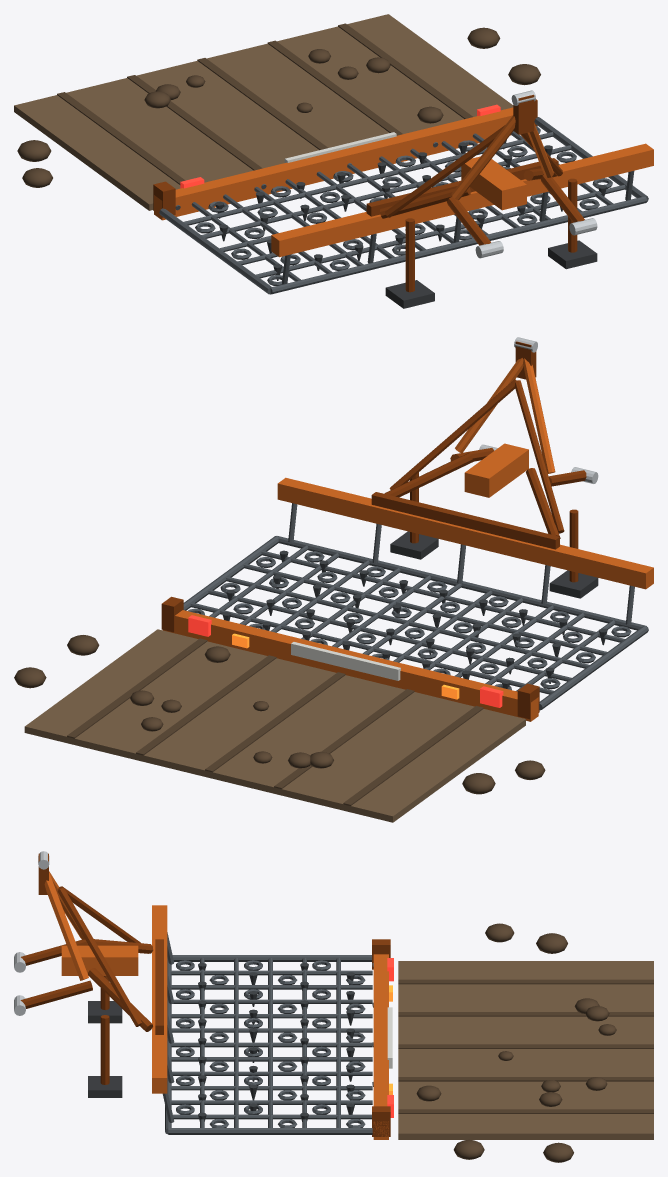
The model's file is chain_harrow.glb.
The picture shows the model from 3 angles, top to bottom: view 1: azimuth 30°, elevation 25°; view 2: azimuth 150°, elevation 25°; view 3: azimuth 270°, elevation 25°; orthographic projection. The views are drawn at different scales.
Parts seen in each view (by area): view 1: ChainProps, ChainBody; view 2: ChainBody, ChainProps; view 3: ChainProps, ChainBody.
Part boxes in pixels (x1,y1,x2,y2): ChainProps: (14,14,540,210); ChainBody: (153,90,653,308); ChainBody: (161,337,653,721); ChainProps: (14,629,545,822); ChainProps: (398,923,653,1162); ChainBody: (14,851,393,1139).
Size of the model in its own units: 3.24 by 1.28 by 3.75.
